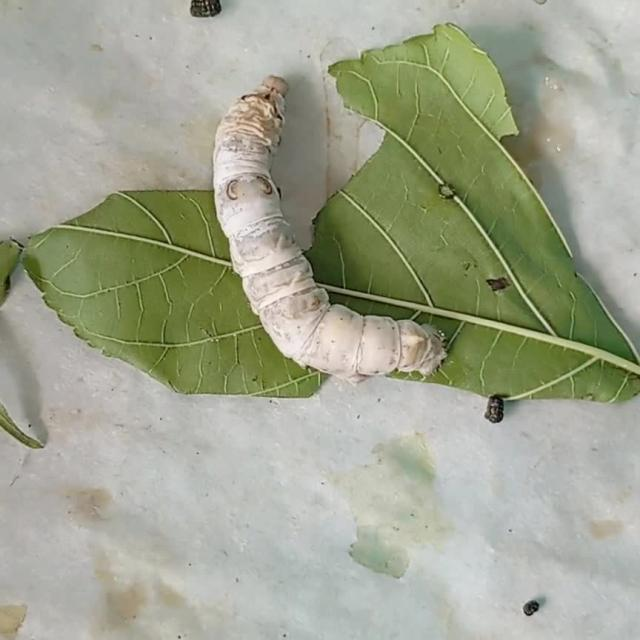Grasserie: (201, 62, 459, 407)
